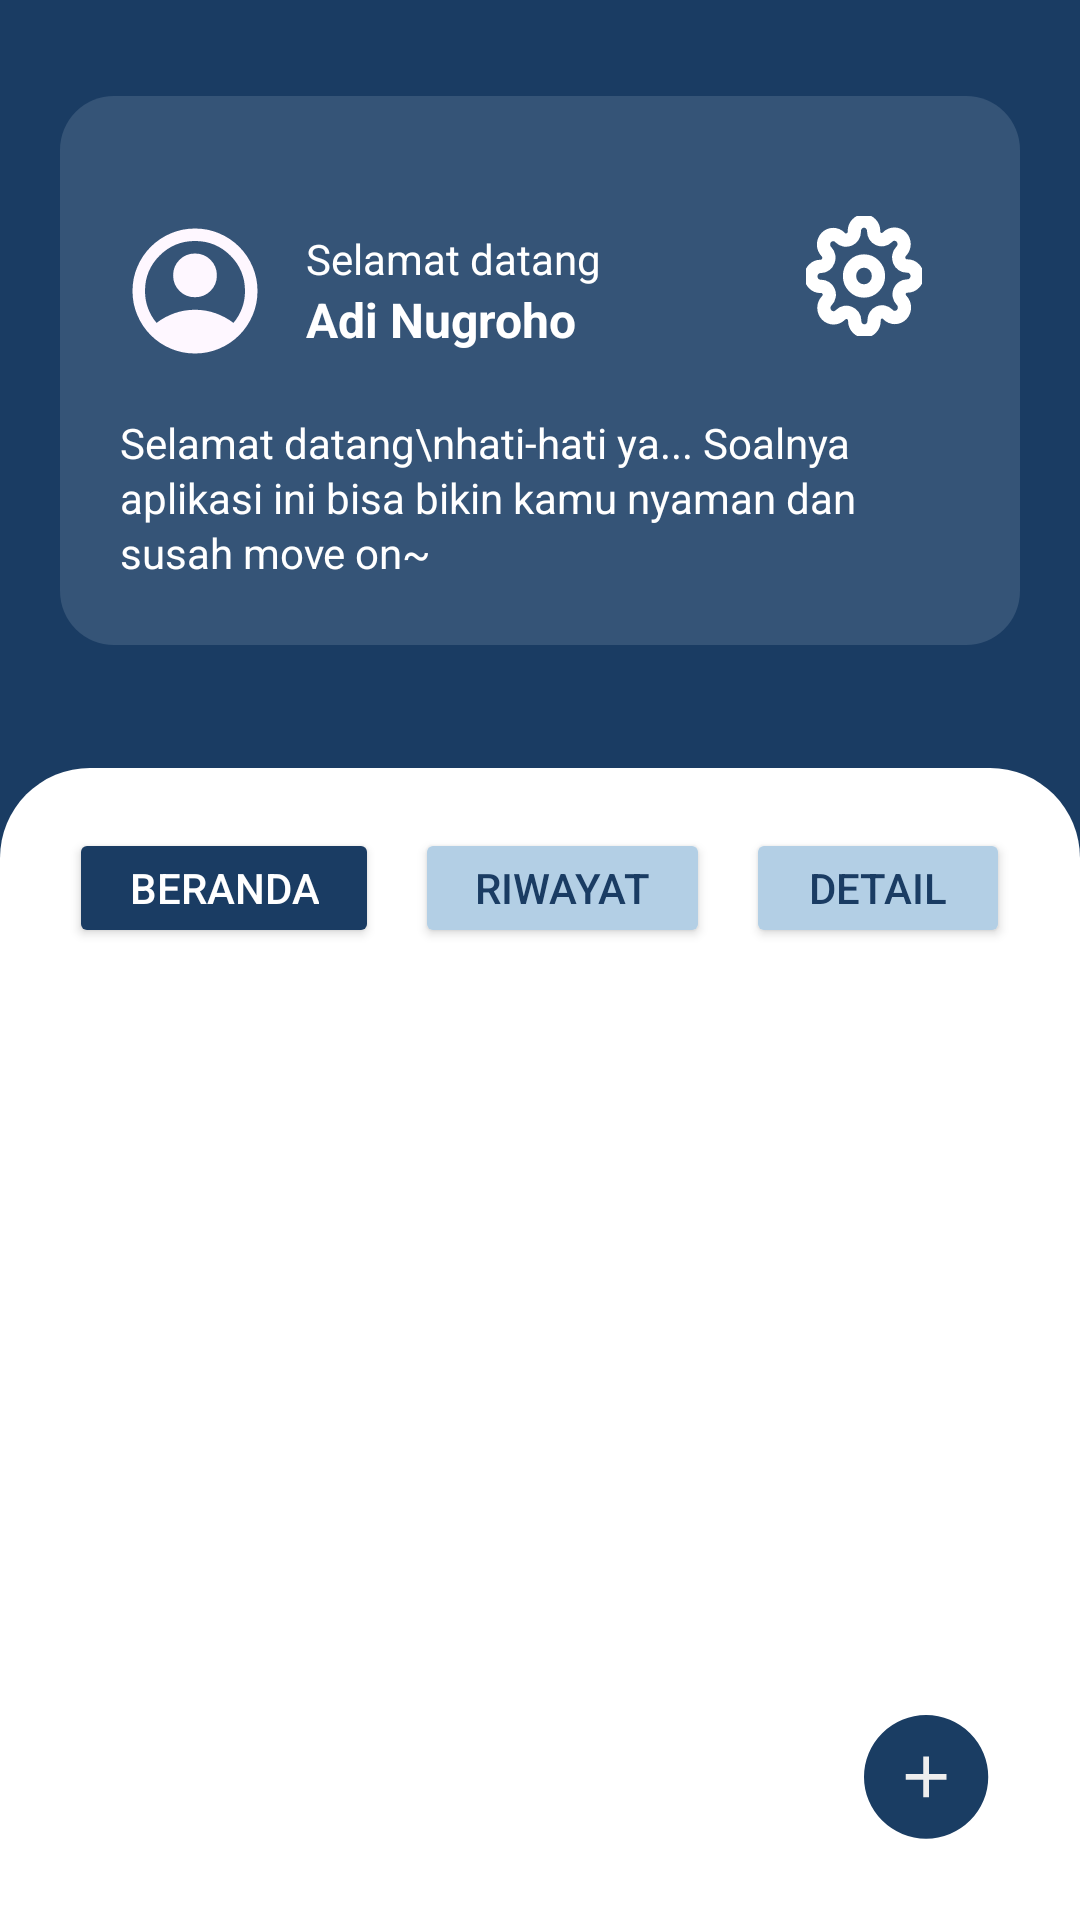

Icon bounding boxes for this 1080 x 1920 phone screenshot, format [x1,y1,x2,y2]:
add: [864,1715,989,1839]
Settings Icon: [806,216,922,336]
User Profile Icon: [132,228,258,354]
